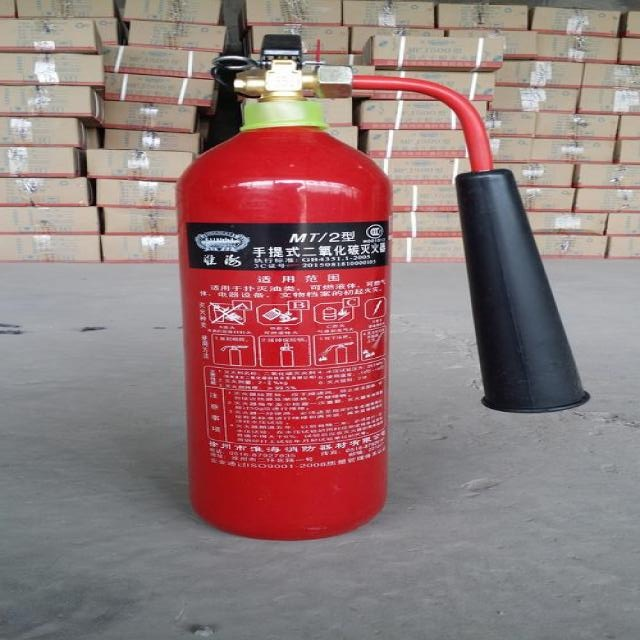fire extinguisher: (158, 42, 598, 546)
